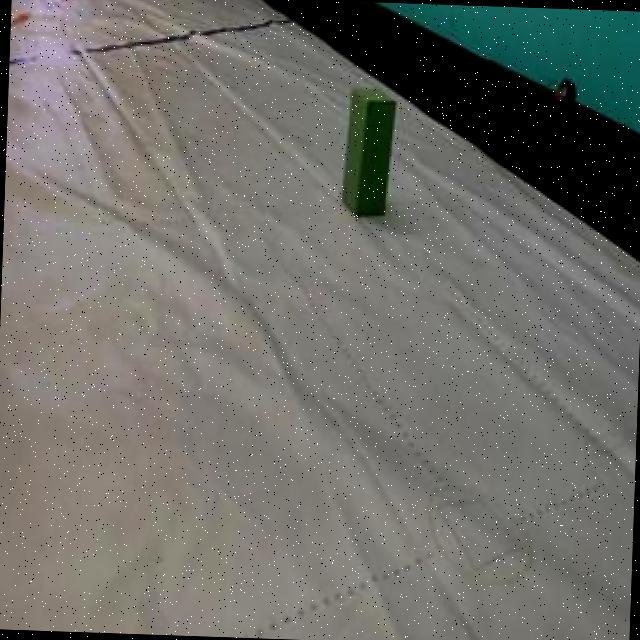greenbox: (338, 80, 399, 219)
